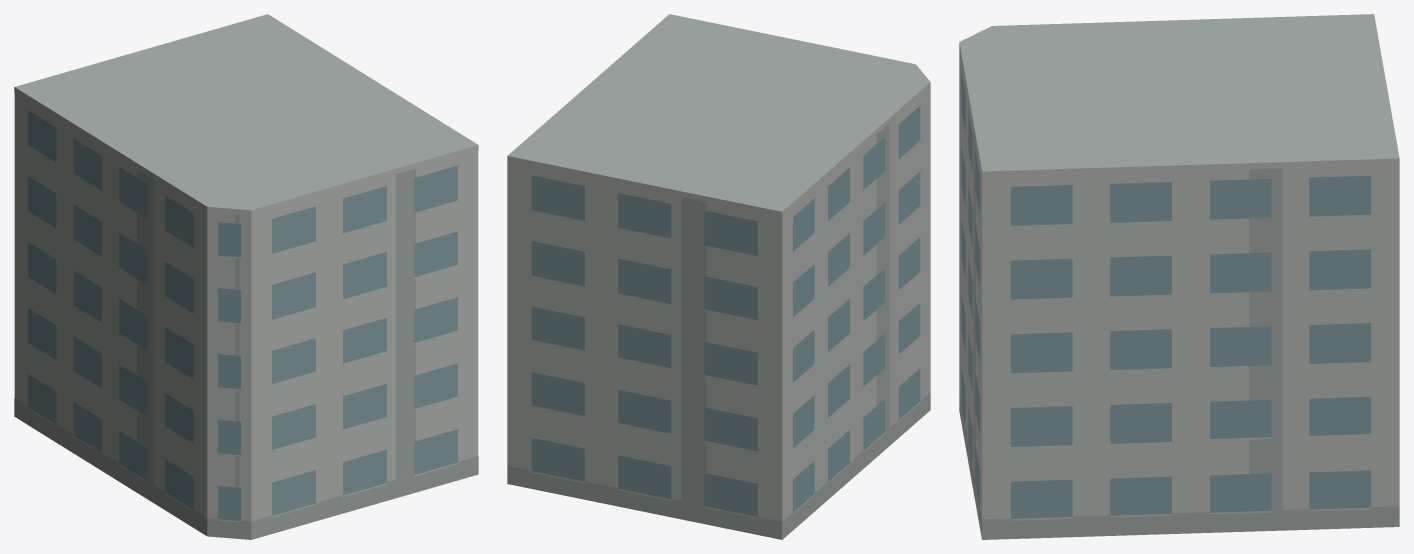
The model's file is survey-upis-32697536.glb.
3 renders of one model, left to right at view 1: azimuth 30°, elevation 25°; view 2: azimuth 150°, elevation 25°; view 3: azimuth 270°, elevation 25°, orthographic. The views are drawn at different scales.
Visible parts, largest first — view 1: survey-upis-32697536.tmp; view 2: survey-upis-32697536.tmp; view 3: survey-upis-32697536.tmp.
Boxes of the visible parts, x1,y1,x2,y2 form: survey-upis-32697536.tmp: [14, 14, 478, 539]; survey-upis-32697536.tmp: [507, 14, 930, 539]; survey-upis-32697536.tmp: [959, 14, 1399, 539].
Bounding box in the file's own units: 13.39 × 14.6 × 15.83.
